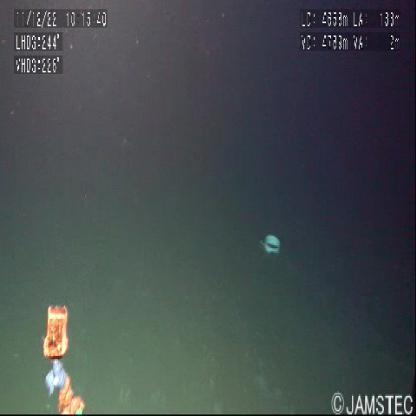Rác: (263, 236, 282, 260)
